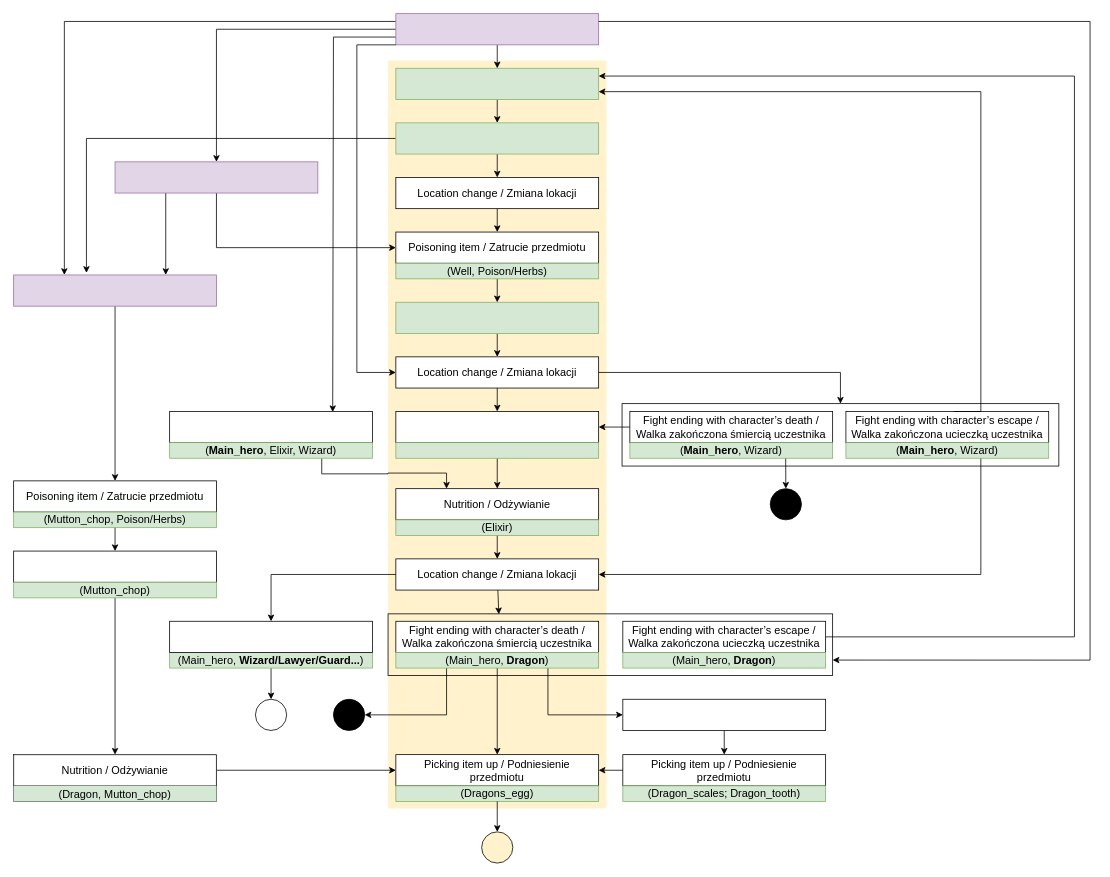
This 1110x877 diagram has some shape labels left out. The shapes that lost their labels are listed below. From the top down, each one's centre as x and y in pixels, then its label:
At (497,29): "(Poznanie sekretu smoczego jaja, Q5)".
At (497,83): "Drunkard gets thrown out of Inn / Wyrzucenie awanturnika z karczmy".
At (497,138): "Obtaining poison / Zdobycie trucizny".
At (216,177): "(Zdobycie trujących ziół, Q2)".
At (114,290): "(Zdobycie baraniny, G8)".
At (497,317): "Wizard receives a distress call / Bohater wzywa czarodzieja na pomoc".
At (270,427): "Making a deal / Transakcja kupna-sprzedaży".
At (497,427): "Stealing an item from location / Kradzież przedmiotu z lokacji".
At (497,450): "(Elixir)".
At (114,566): "Dropping item / Odłożenie przedmiotu".
At (270,636): "Character’s arrest / Aresztowanie bohatera".
At (724,714): "Turning a dead dragon into valuables / Zamiana martwego smoka na łuski i ząb".
